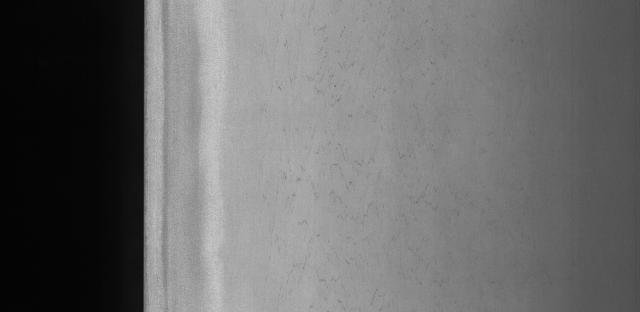silk_spot: (256, 6, 453, 233)
